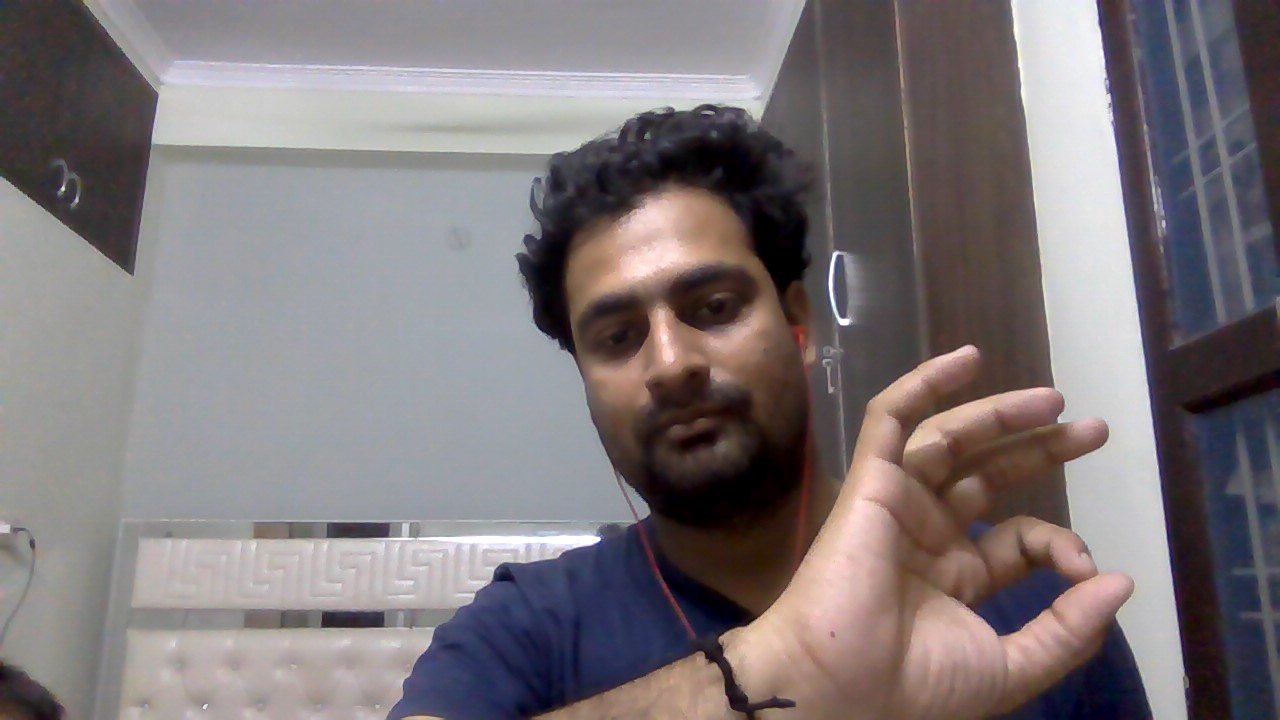Copy: (785, 336, 1147, 714)
